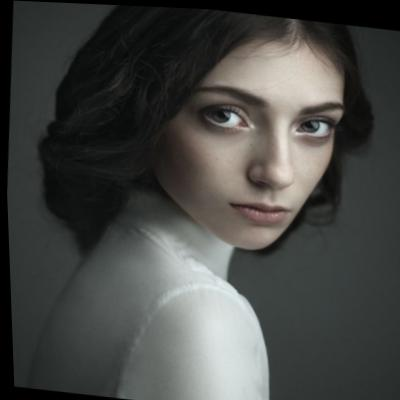netural: (147, 12, 350, 259)
